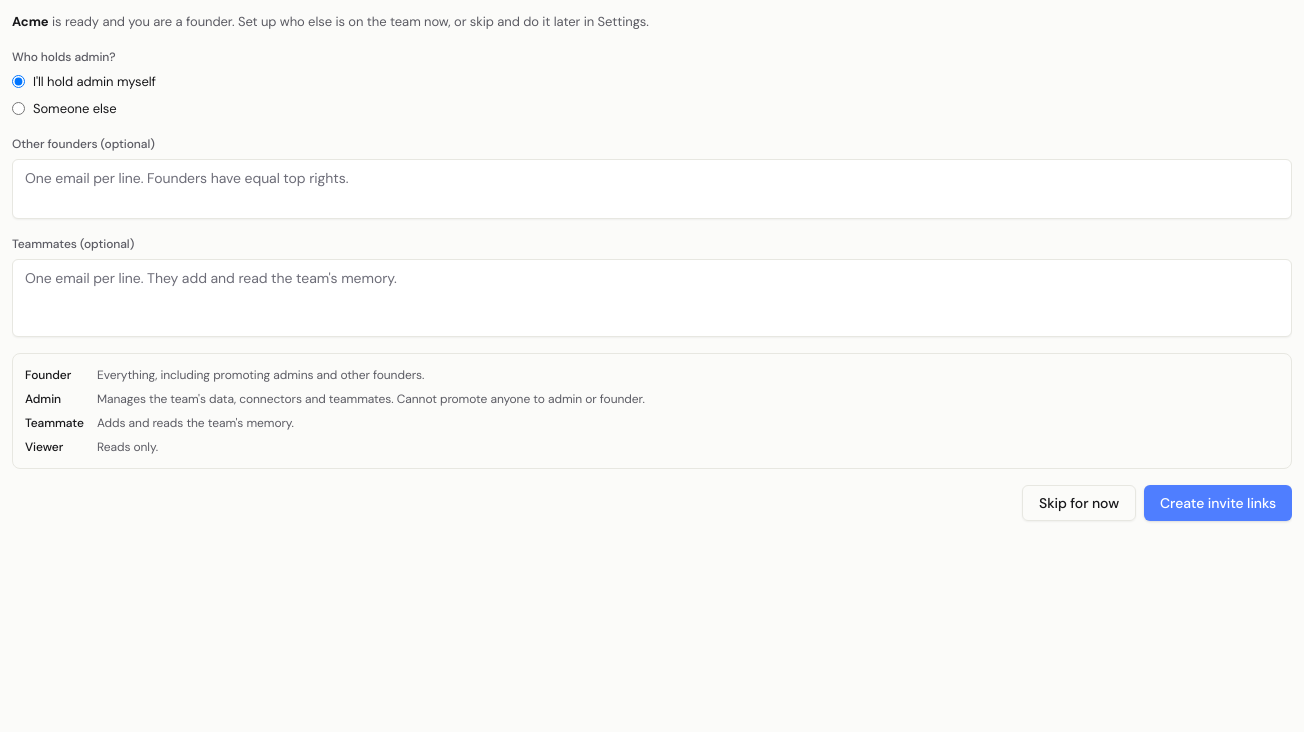
team setup step › a bad address stops everything before anything is sent
In the text box with test id "setup-teammates": (652, 298) [12,258,1292,336], type "fine@x.co nonsense"
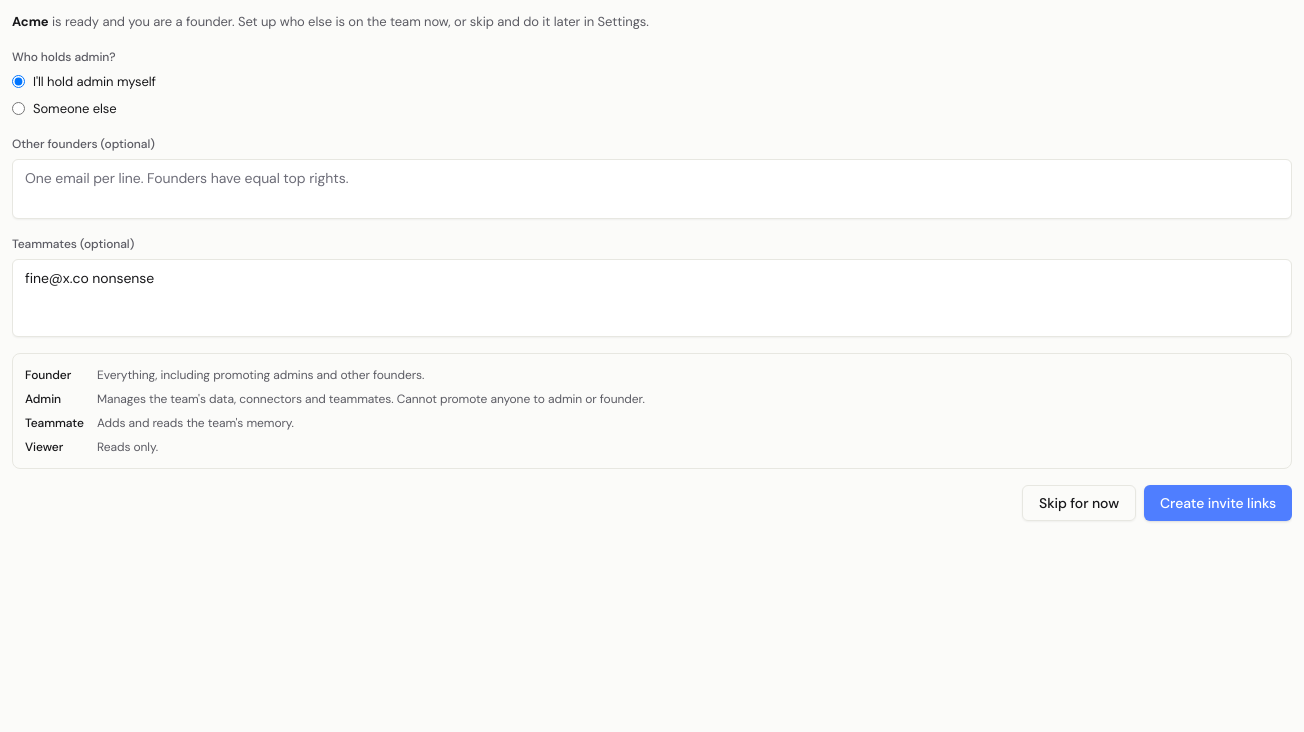
Click the button with test id "team-setup-submit": click(1218, 502) [1144,484,1292,520]
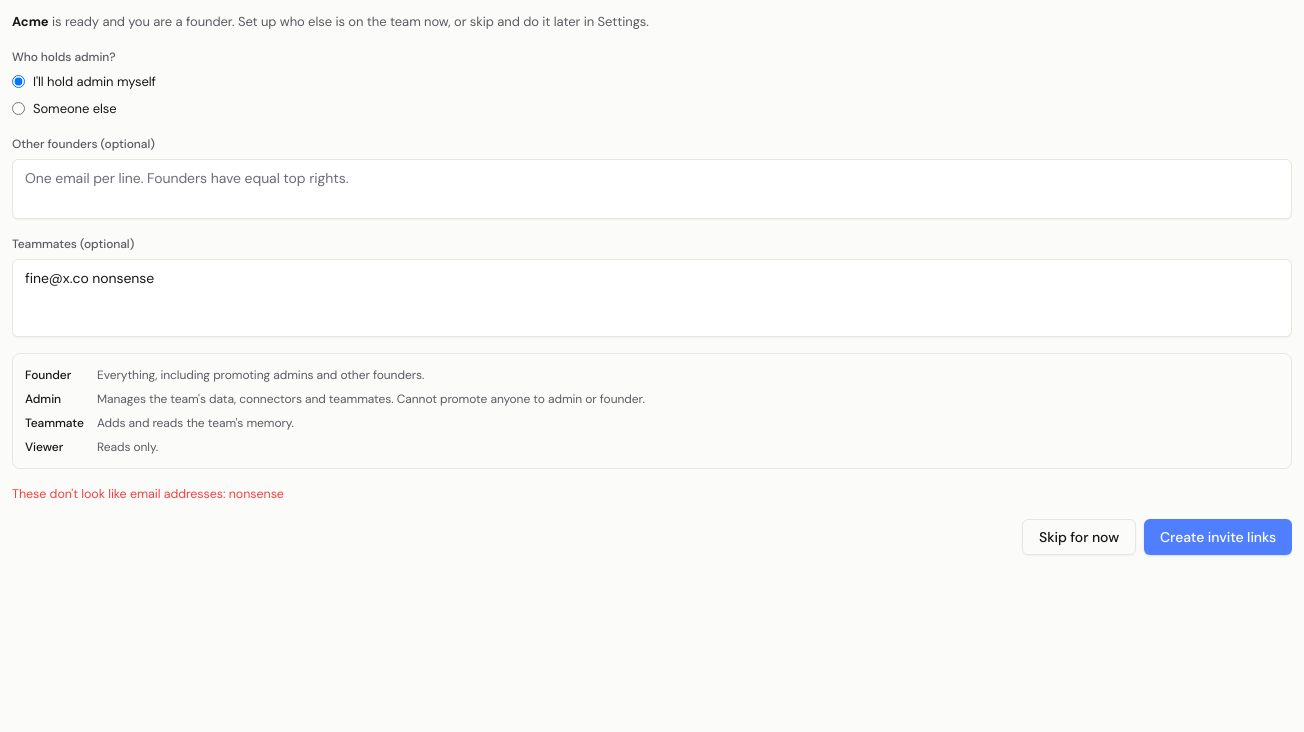
Expected: the message with test id "team-setup-error" shows "nonsense", [12,486,284,502]
